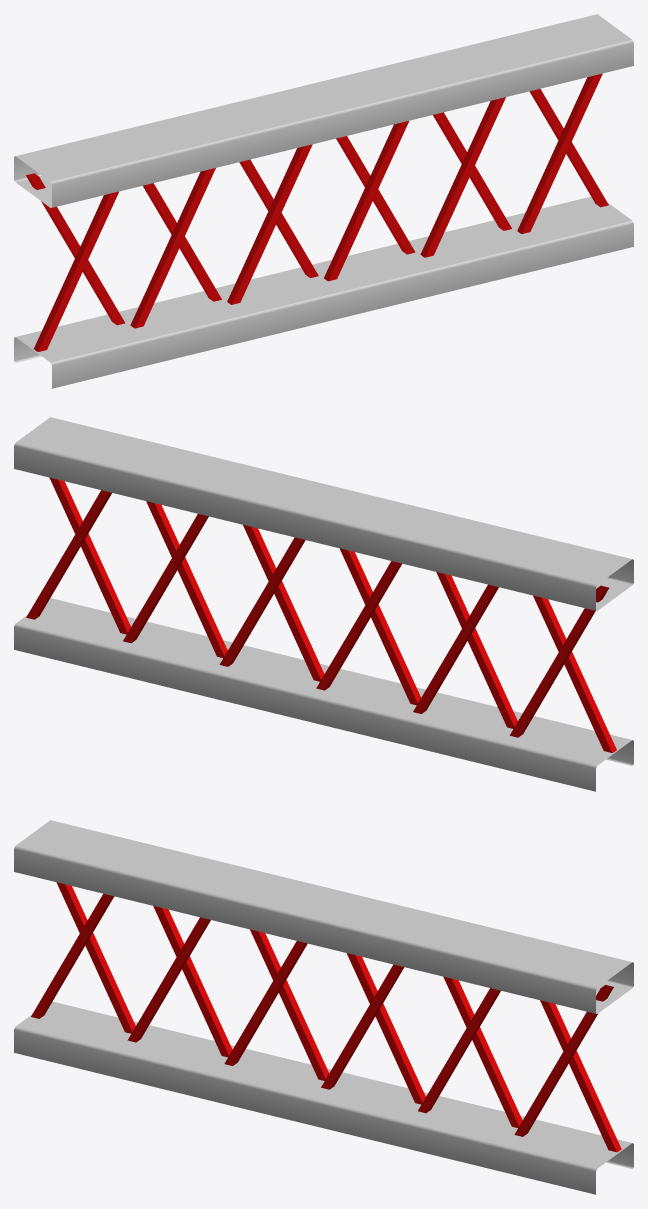
Rendered from dom_znati_ograda_6x.fbx.
3 views of the same model, one above another, from view 1: azimuth 30°, elevation 25°; view 2: azimuth 150°, elevation 25°; view 3: azimuth 330°, elevation 25° (orthographic).
Parts seen in each view (by area): view 1: dom_znati_ograda_6x; view 2: dom_znati_ograda_6x; view 3: dom_znati_ograda_6x.
Part boxes in pixels (box(x1,y1,x2,y2)): dom_znati_ograda_6x: box(14, 14, 633, 388); dom_znati_ograda_6x: box(14, 417, 633, 791); dom_znati_ograda_6x: box(14, 820, 633, 1194).
Bounding box in the file's own units: 21.59 × 7.34 × 2.44.
